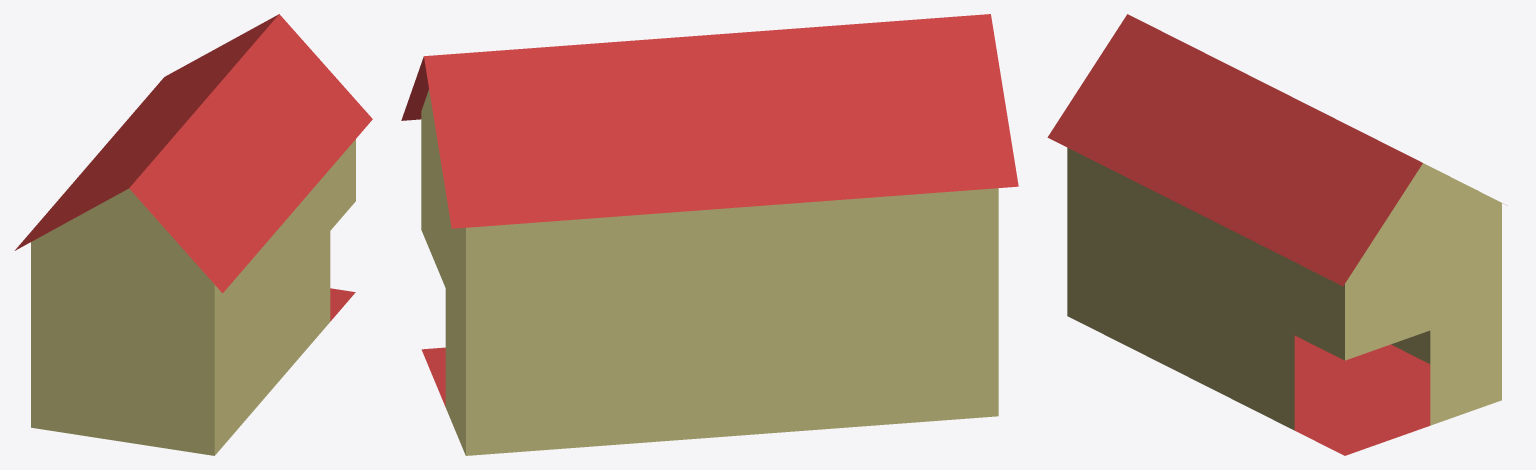
The picture shows the model from 3 angles, left to right: view 1: azimuth 30°, elevation 25°; view 2: azimuth 150°, elevation 25°; view 3: azimuth 270°, elevation 25°; orthographic projection. The views are drawn at different scales.
Bounding box in the file's own units: 26.97 × 25.46 × 16.18.
